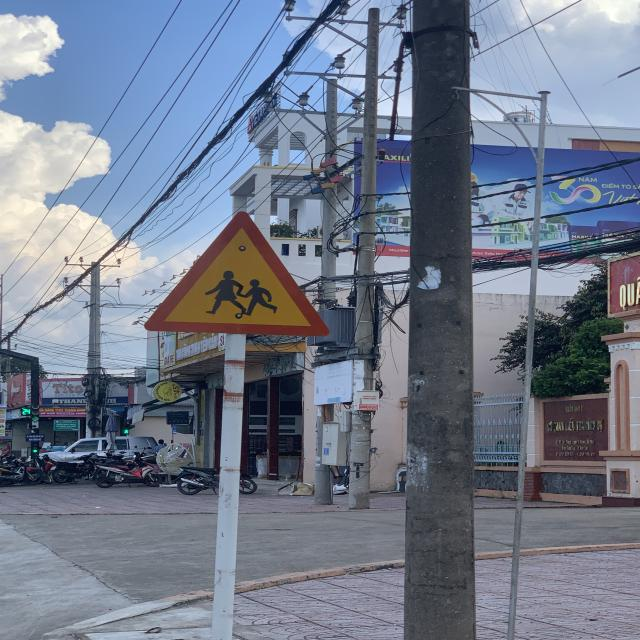Vong_Xuyen: (146, 210, 329, 334)
